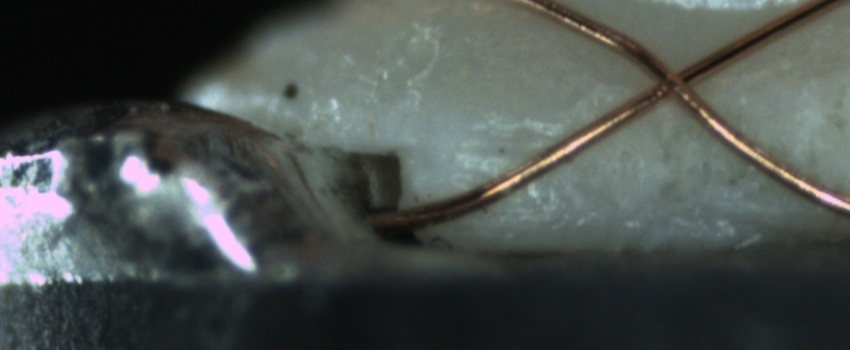CL: (633, 43, 716, 114)
DL: (434, 115, 584, 179)
